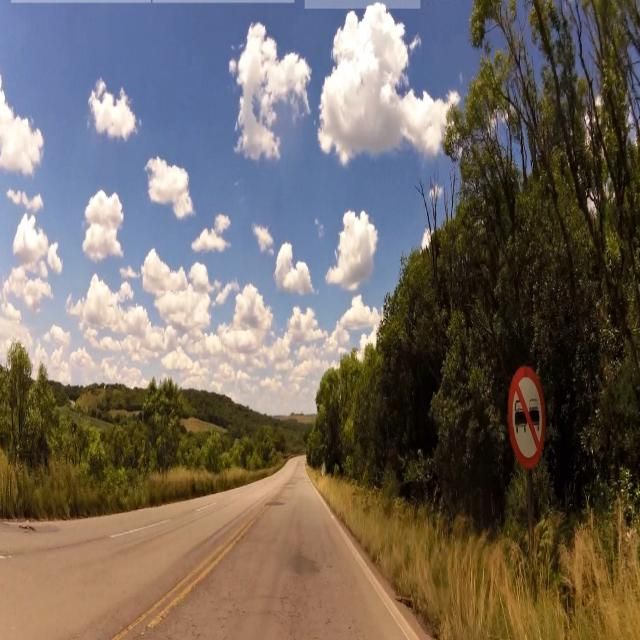R-7: (509, 363, 548, 474)
